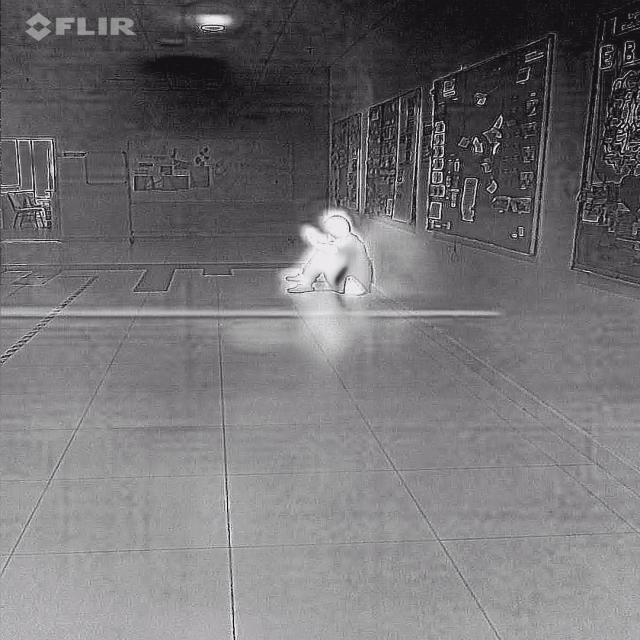Victim: (272, 198, 398, 304)
